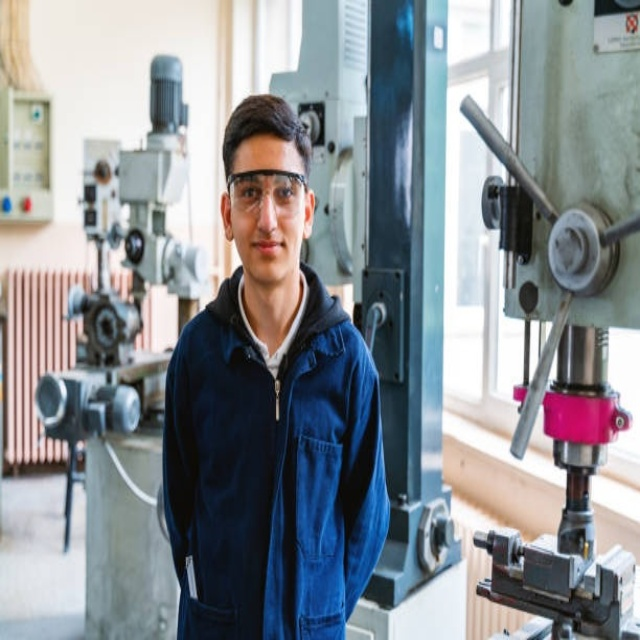Gafas: (228, 171, 309, 215)
Sin_mascara: (246, 235, 287, 273)
